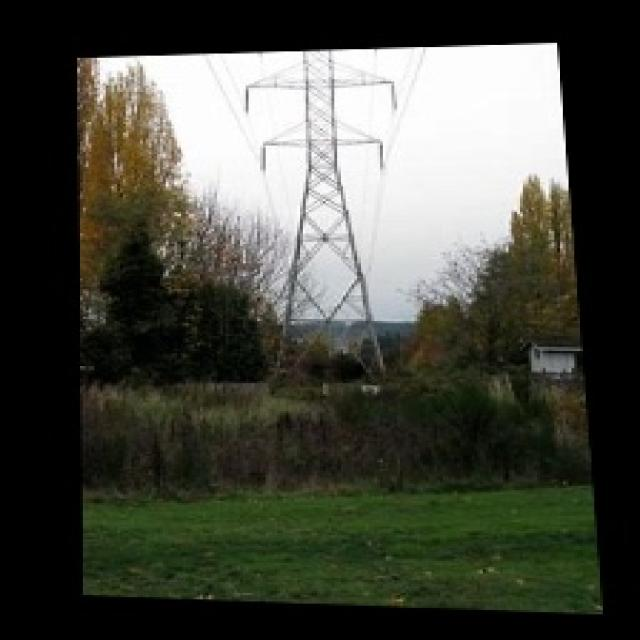utility poles: (204, 261, 320, 389), (345, 300, 468, 379)
